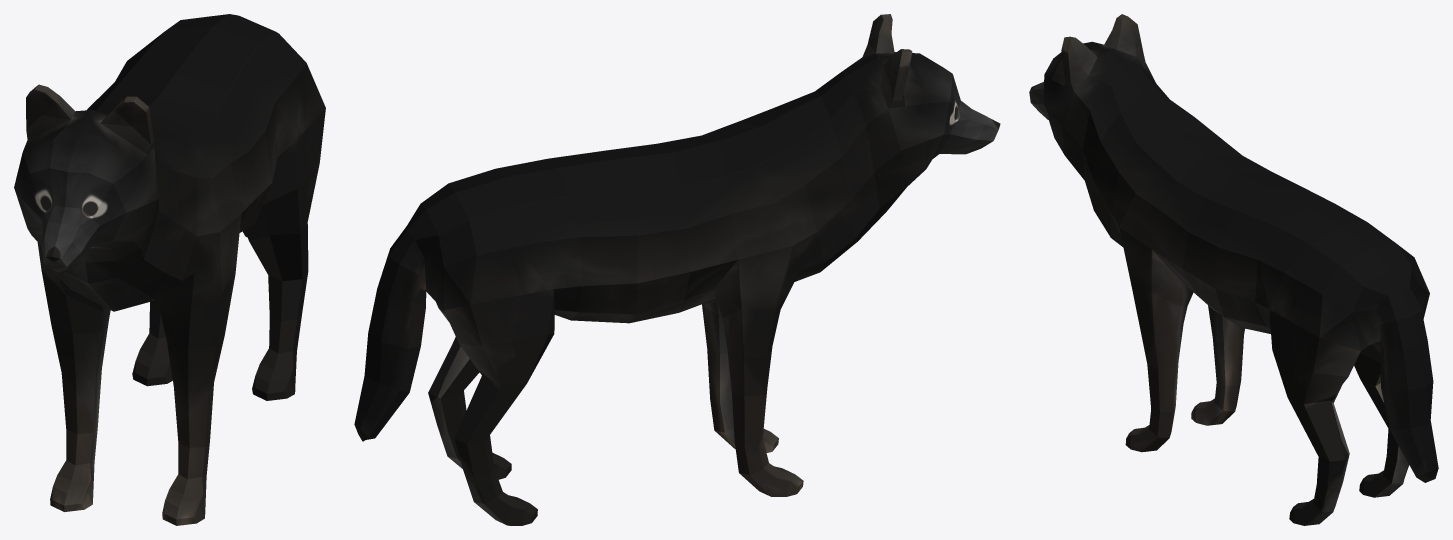
The model's file is panther.glb.
3 views of the same model, side by side, from view 1: azimuth 30°, elevation 25°; view 2: azimuth 150°, elevation 25°; view 3: azimuth 270°, elevation 25° (orthographic). The views are drawn at different scales.
Parts seen in each view (by area): view 1: Wolves_Mesh; view 2: Wolves_Mesh; view 3: Wolves_Mesh.
Boxes of the visible parts, <box> form: Wolves_Mesh: <box>14,14,325,525</box>; Wolves_Mesh: <box>354,14,1000,525</box>; Wolves_Mesh: <box>1029,14,1438,525</box>.
Bounding box in the file's own units: 3 × 2.87 × 2.88.
1 material, 1 textured.
